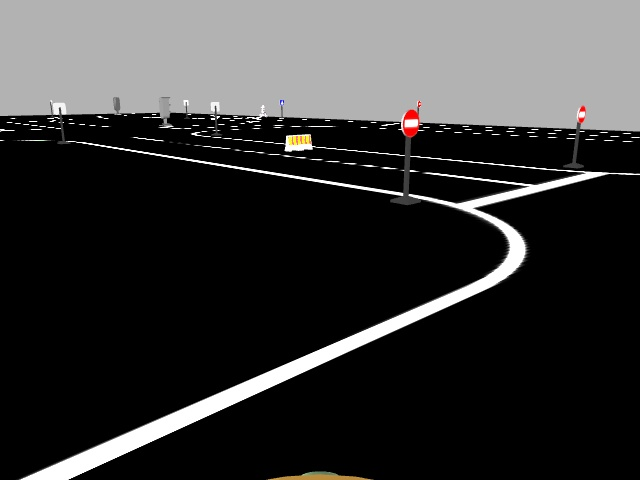NoEntry: (401, 107, 419, 136)
